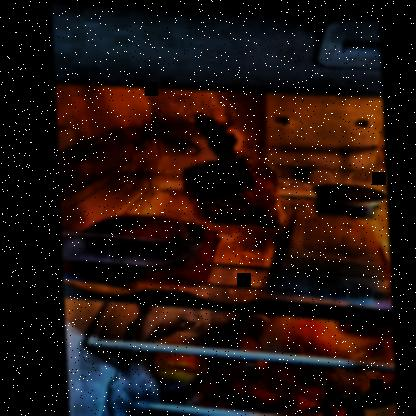cheese: (279, 210, 384, 270)
lemon: (279, 313, 340, 352), (148, 351, 202, 385)
salami: (86, 212, 192, 242)
yoghurt: (311, 180, 385, 215)
